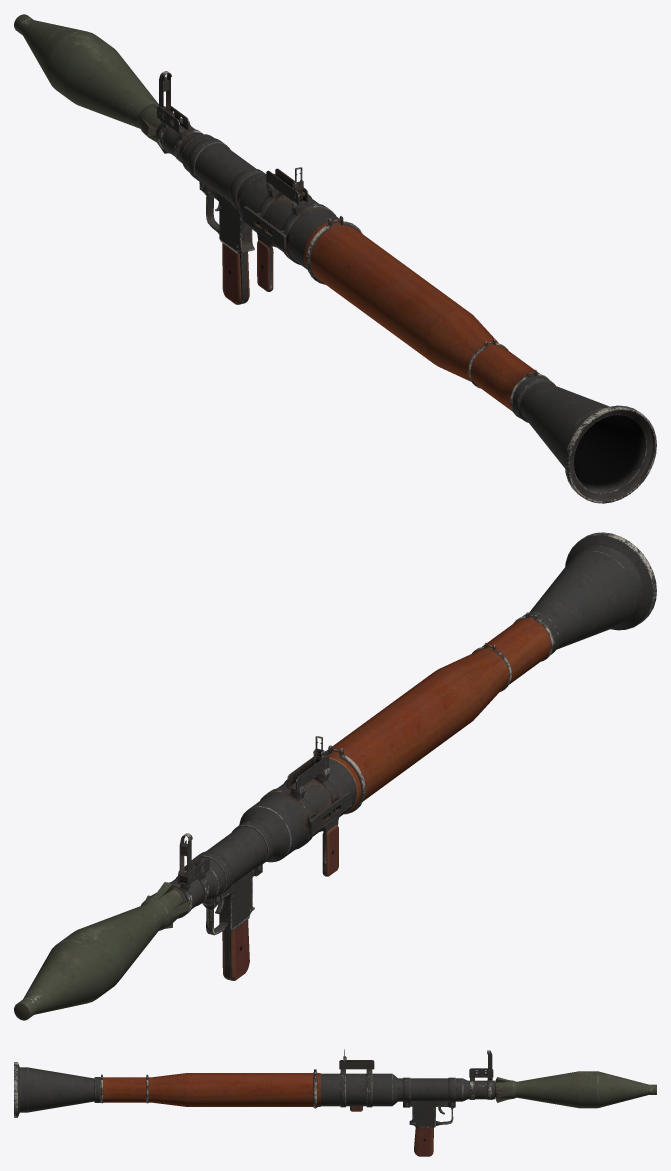
Rendered from w_rpg.glb.
The picture shows the model from 3 angles, top to bottom: view 1: azimuth 30°, elevation 25°; view 2: azimuth 150°, elevation 25°; view 3: azimuth 270°, elevation 25°; orthographic projection. The views are drawn at different scales.
Parts seen in each view (by area): view 1: Weapon; view 2: Weapon; view 3: Weapon.
Boxes of the visible parts, x1,y1,x2,y2 form: Weapon: (14,14,656,503); Weapon: (14,532,656,1020); Weapon: (14,1049,656,1156).
Bounding box in the file's own units: 0.0828 × 0.1678 × 0.95.
1 material, 1 textured.
